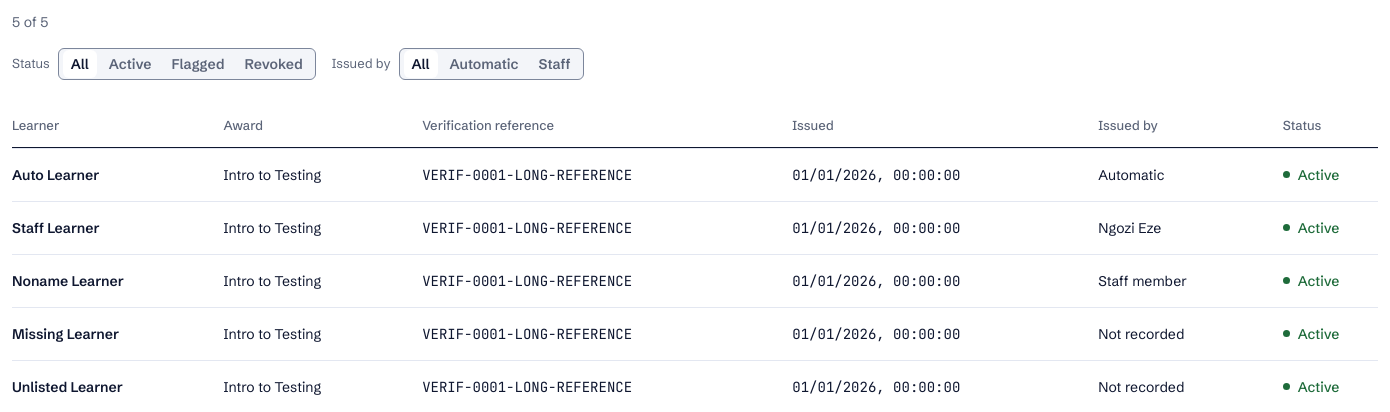
IssuedCertificatesTable — issuance source (UAT test 8) › the Automatic filter shows only automatically issued rows
Click the button "Automatic" at [484, 64], box [442,50,526,78]
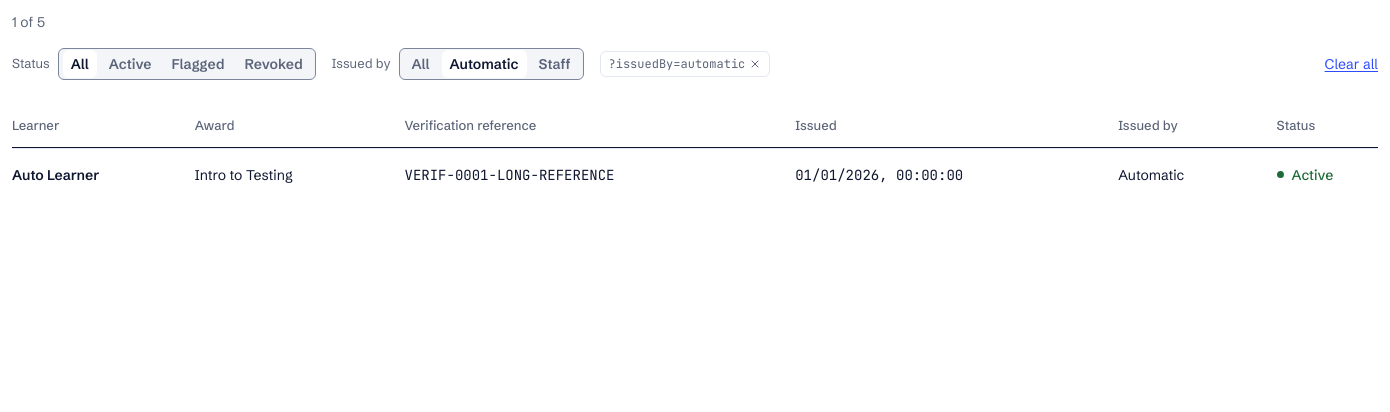
Check: the link "Staff Learner" is gone
Check: the link "Missing Learner" is gone
Check: the link "Unlisted Learner" is gone
